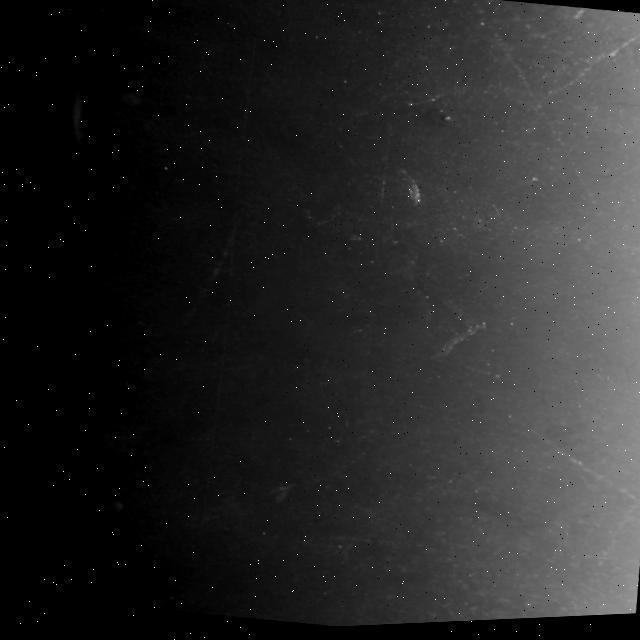beta: (441, 0, 620, 215), (488, 413, 640, 523), (533, 15, 640, 126), (170, 208, 244, 337), (574, 512, 632, 583), (431, 359, 516, 393), (317, 444, 370, 493), (14, 292, 45, 324), (400, 95, 439, 116)
